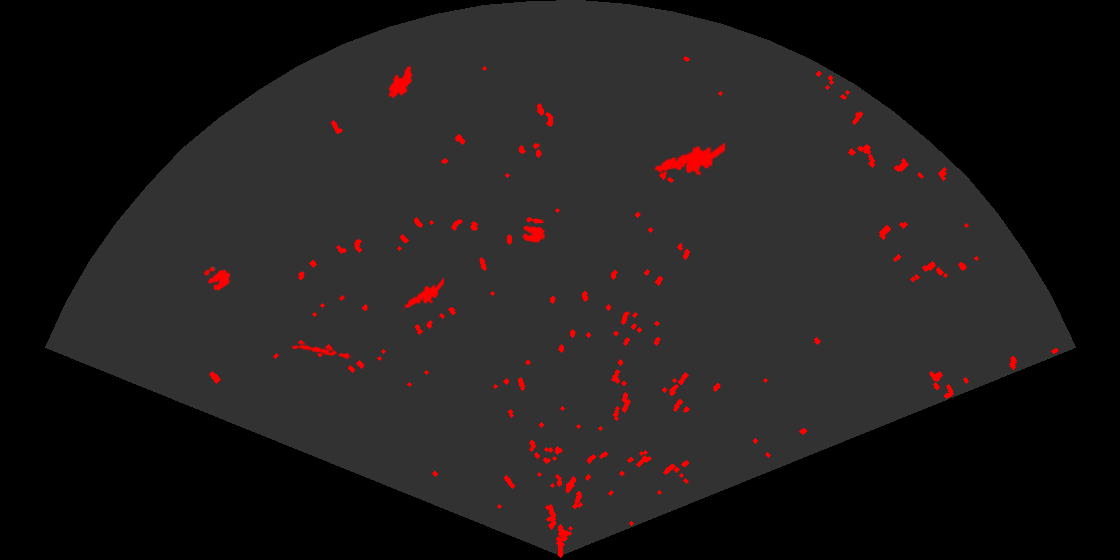AUV: (387, 64, 414, 100)
ball: (202, 265, 232, 292), (520, 216, 547, 244)
chain: (290, 343, 353, 361)
frogman: (653, 140, 725, 177), (401, 276, 444, 314)
